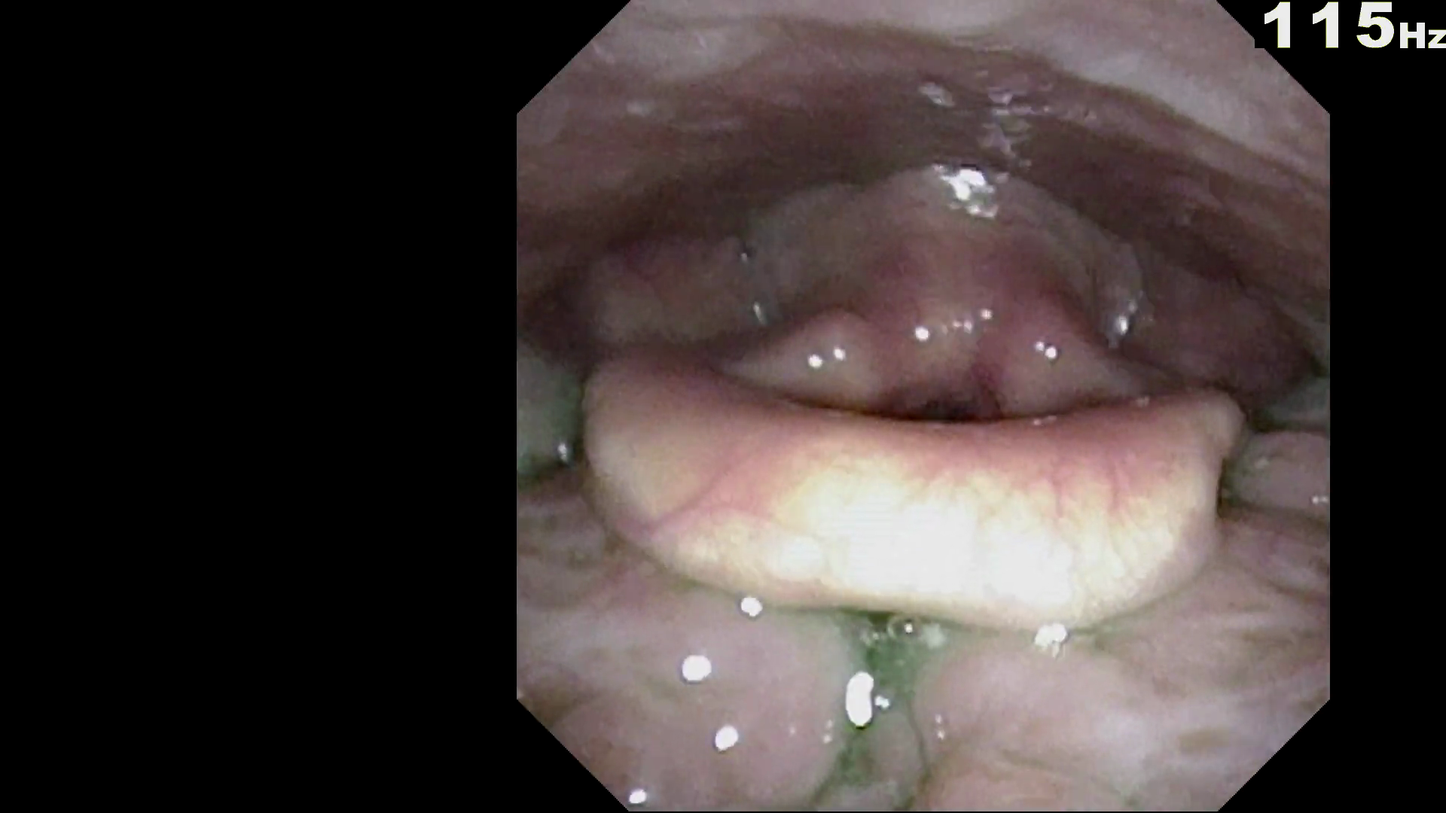epiglottis: (554, 342, 1284, 614)
trachea: (859, 355, 1045, 447)
